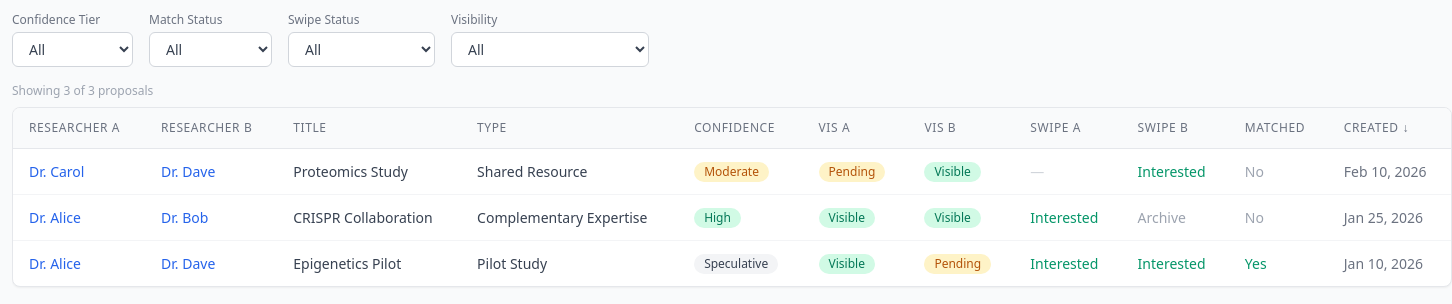
Scenario: ProposalsTable › filters by match status (matched)
The image size is (1452, 304).
Select "Matched" in the dropdown labelled "Match Status" at [210, 50], box [149, 32, 272, 67]
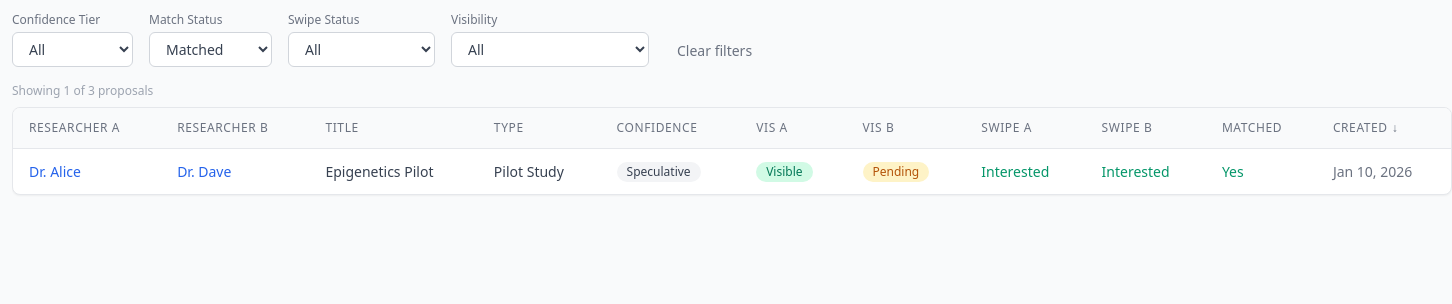
Result: the text "CRISPR Collaboration" is gone
Result: the text "Proteomics Study" is gone
Result: the text "Showing 1 of 3 proposals" is shown at [12, 82, 153, 99]
